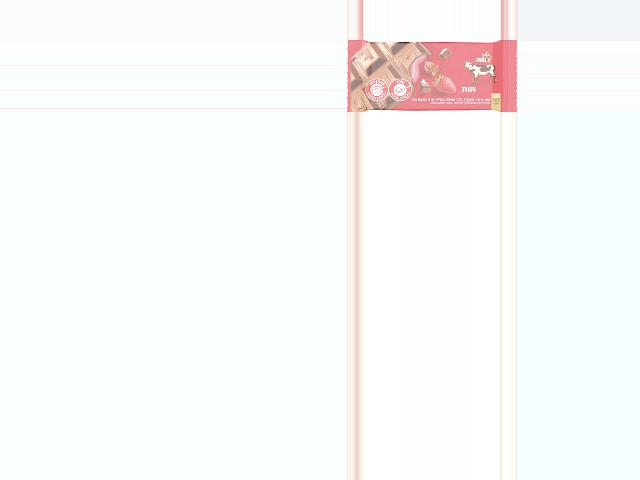chocolate: (347, 40, 518, 112)
